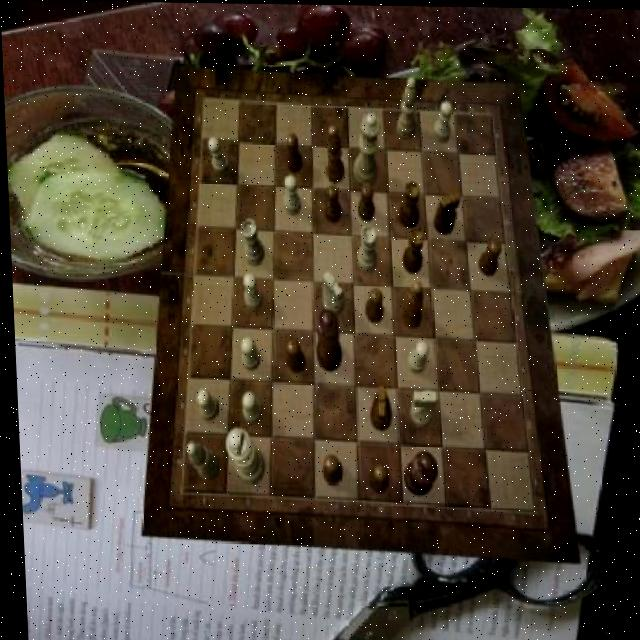bishop: (323, 123, 344, 182), (397, 280, 422, 328)
black-bishop: (399, 449, 436, 495)
black-king: (431, 189, 460, 234), (366, 384, 390, 430)
black-knight: (476, 238, 500, 275), (323, 183, 342, 222), (355, 183, 374, 221), (285, 132, 303, 172), (283, 338, 303, 373), (362, 287, 381, 322), (319, 454, 340, 485), (364, 463, 385, 492)
black-pawn: (312, 308, 340, 371)
black-queen: (399, 225, 423, 273), (396, 180, 420, 228)
black-rook: (393, 75, 418, 137), (183, 442, 217, 482)
white-bishop: (221, 427, 262, 485)
white-king: (319, 270, 343, 316), (406, 389, 434, 427)
white-knight: (431, 100, 452, 142), (240, 272, 261, 311), (208, 136, 229, 175), (404, 340, 428, 374), (192, 388, 215, 421), (282, 176, 300, 216), (240, 390, 261, 423), (238, 337, 258, 371)
white-pawn: (350, 112, 382, 186)
white-queen: (240, 218, 264, 264), (354, 224, 375, 272)
